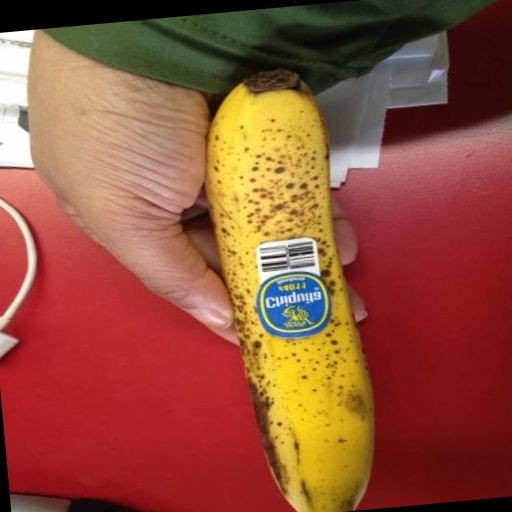fruit: (205, 70, 373, 512)
